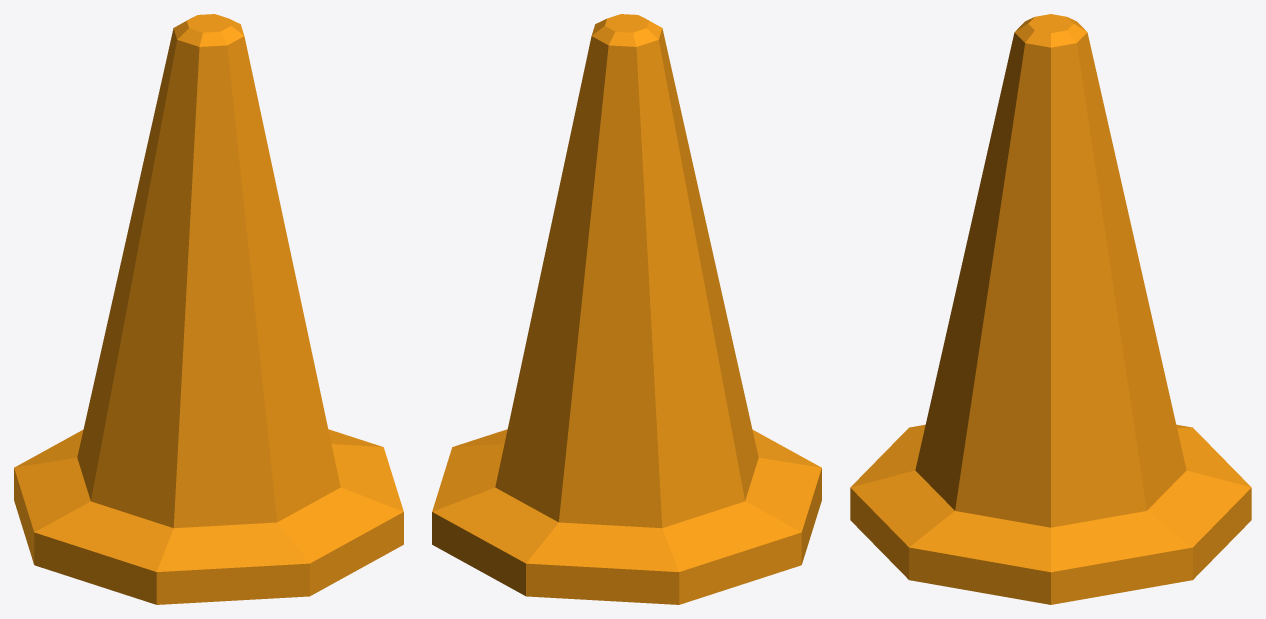
Rendered from traffic_13.fbx.
3 views of the same model, side by side, from view 1: azimuth 30°, elevation 25°; view 2: azimuth 150°, elevation 25°; view 3: azimuth 270°, elevation 25° (orthographic).
Visible parts, largest first — view 1: Cylinder.031; view 2: Cylinder.031; view 3: Cylinder.031.
Part boxes in pixels (bbox=[...]): Cylinder.031: bbox=[14, 14, 403, 604]; Cylinder.031: bbox=[432, 14, 821, 604]; Cylinder.031: bbox=[850, 14, 1251, 604].
Size of the model in its own units: 45.2 by 61.7 by 45.2.
